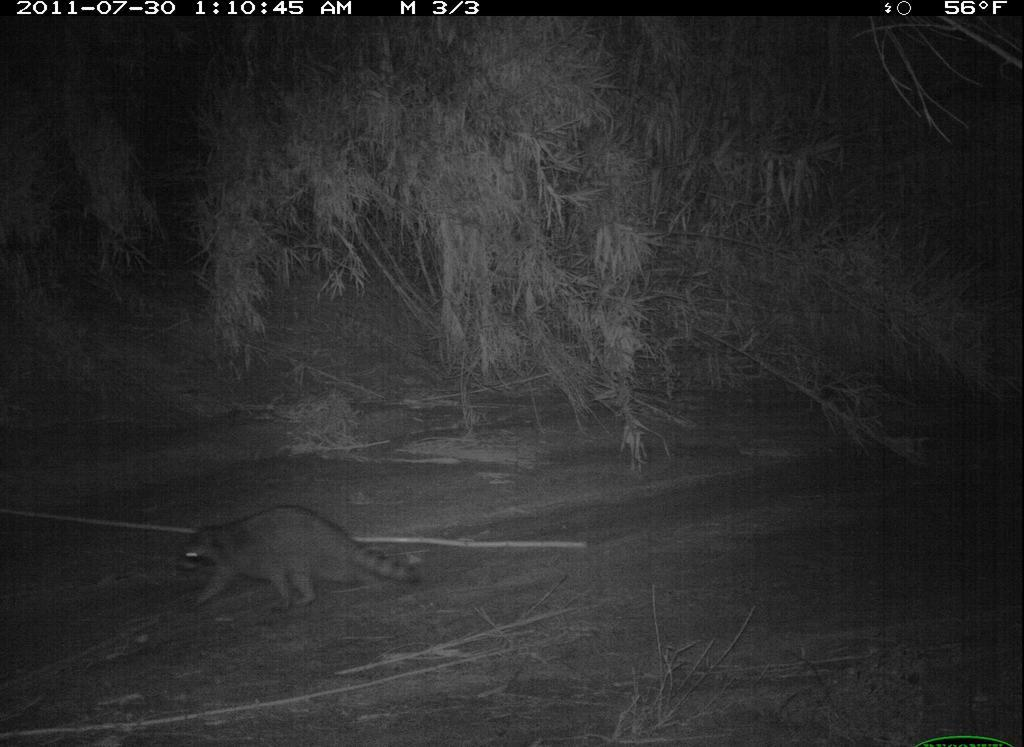raccoon: (171, 501, 428, 619)
